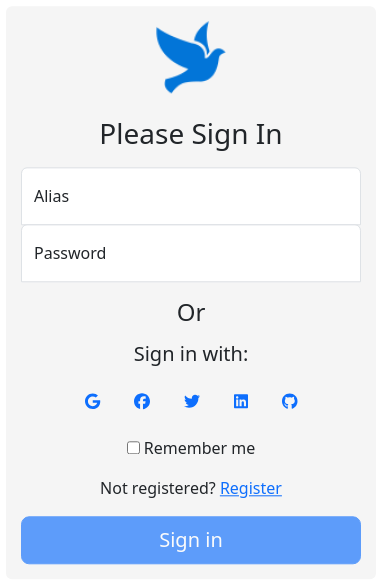
Test case: Login Component › enables the sign-in button if both alias and password fields have text
The image size is (383, 587).
Type "a" into the field labelled "Alias" at coordinates (191, 196), box [21, 167, 361, 225]
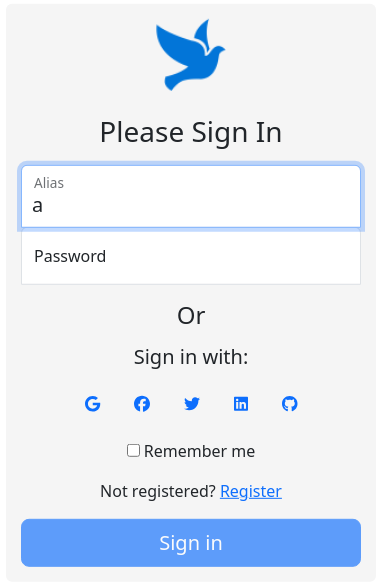
Type "pass" into the password field labelled "Password" at coordinates (191, 255), box [21, 226, 361, 284]
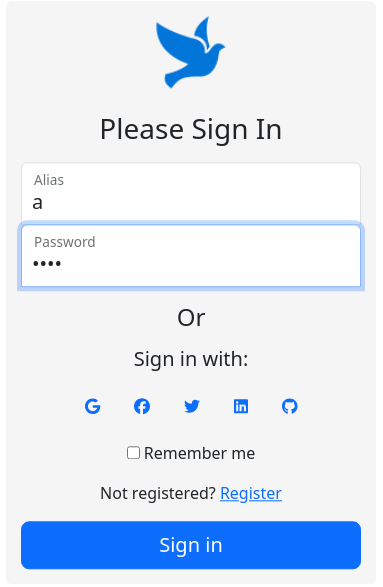
Expected: the button "Sign in" is enabled, [21, 522, 361, 570]
